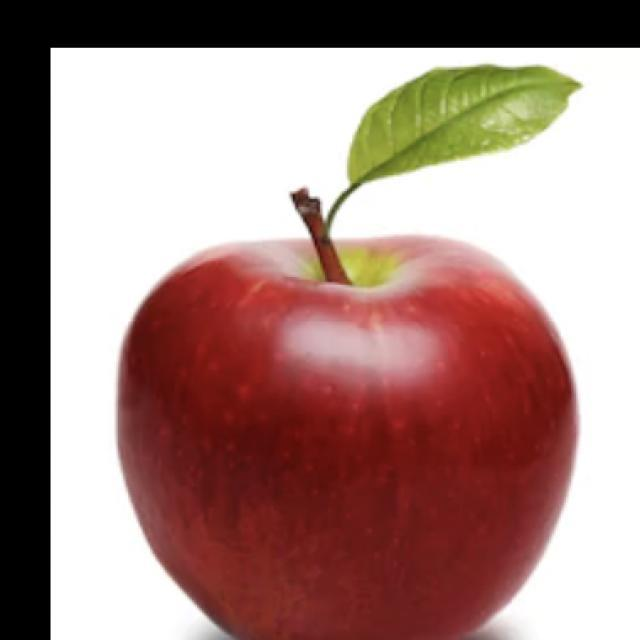Fresh Apple: (137, 225, 568, 640)
